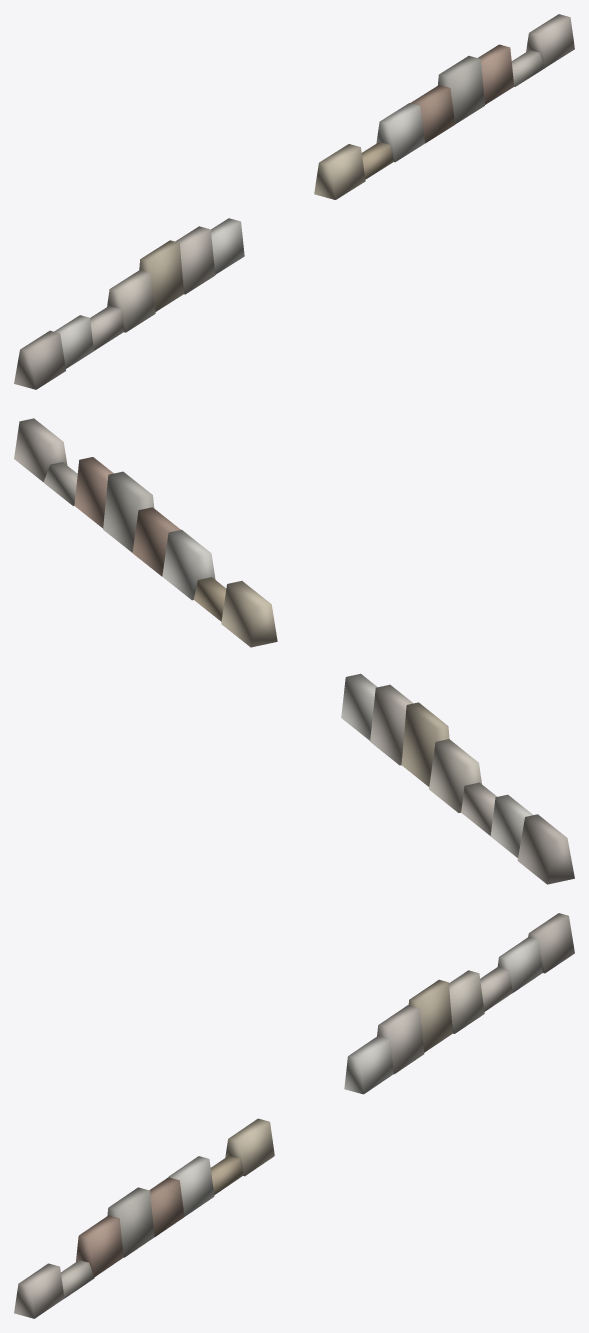
Rendered from farm_-31_-29_collision.glb.
3 renders of one model, top to bottom at view 1: azimuth 90°, elevation 25°; view 2: azimuth 150°, elevation 25°; view 3: azimuth 270°, elevation 25°, orthographic. The views are drawn at different scales.
Visible parts, largest first — view 1: geometry_0; view 2: geometry_0; view 3: geometry_0.
Part boxes in pixels (box(x1,y1,x2,y2)): geometry_0: box(14, 14, 574, 389); geometry_0: box(14, 418, 574, 884); geometry_0: box(14, 913, 574, 1318).
Size of the model in its own units: 23.86 by 1.88 by 15.76.
